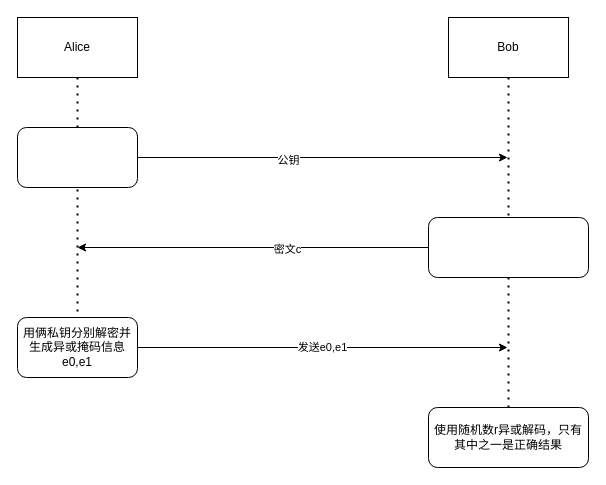
Image size: 606x485. Some labels were removed from this diagram. Each missing label, with the centre of its shape:
"生成两个公私钥对，公开公钥" goes at pixel 77 157.
"生成随机数r，并选择一个公钥加密，生成密文c" goes at pixel 508 247.
